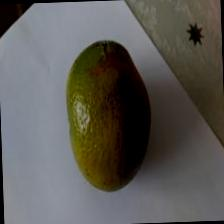Orange Rotten: (57, 29, 159, 200)
